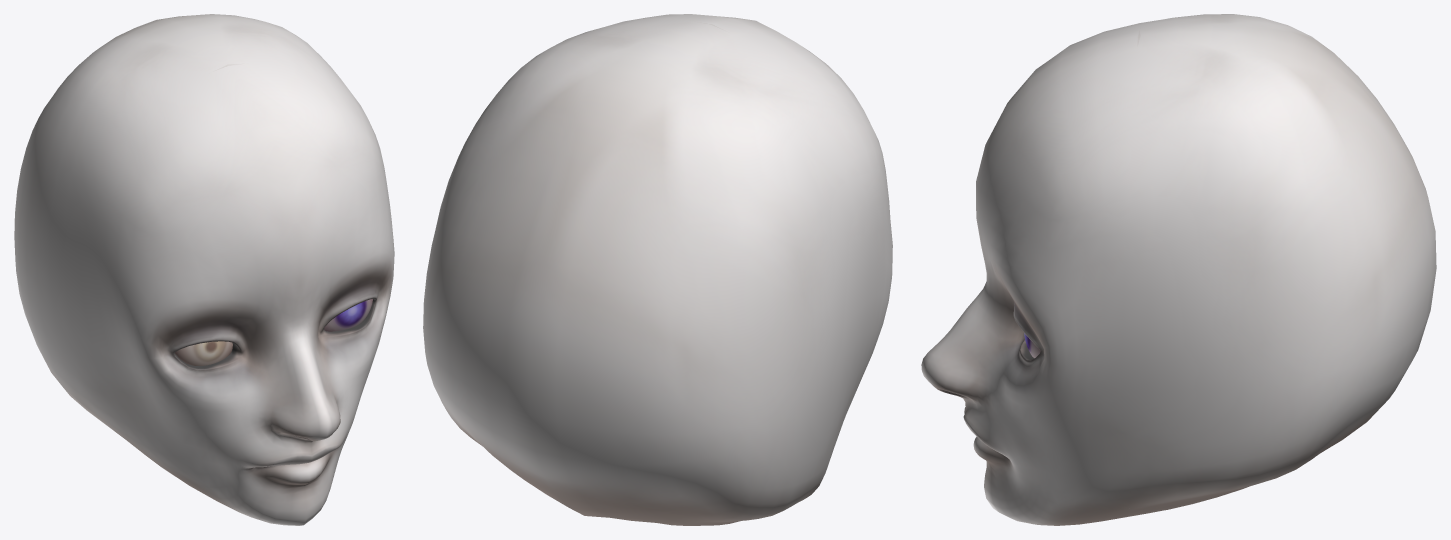
Rendered from Head.fbx.
The picture shows the model from 3 angles, left to right: view 1: azimuth 30°, elevation 25°; view 2: azimuth 150°, elevation 25°; view 3: azimuth 270°, elevation 25°; orthographic projection. The views are drawn at different scales.
Parts seen in each view (by area): view 1: Head; view 2: Head; view 3: Head.
Boxes of the visible parts, <box> form: Head: <box>14,14,394,525</box>; Head: <box>423,14,892,525</box>; Head: <box>921,14,1436,525</box>.
Bounding box in the file's own units: 18.28 × 24.44 × 23.82.
